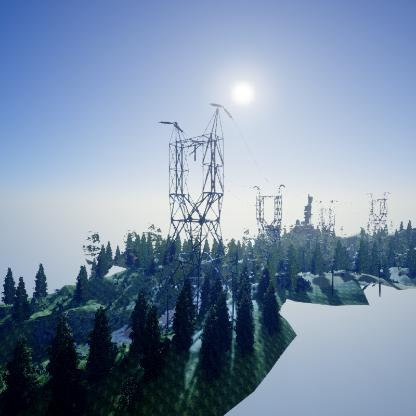tower: (157, 100, 235, 289), (251, 183, 287, 258)
